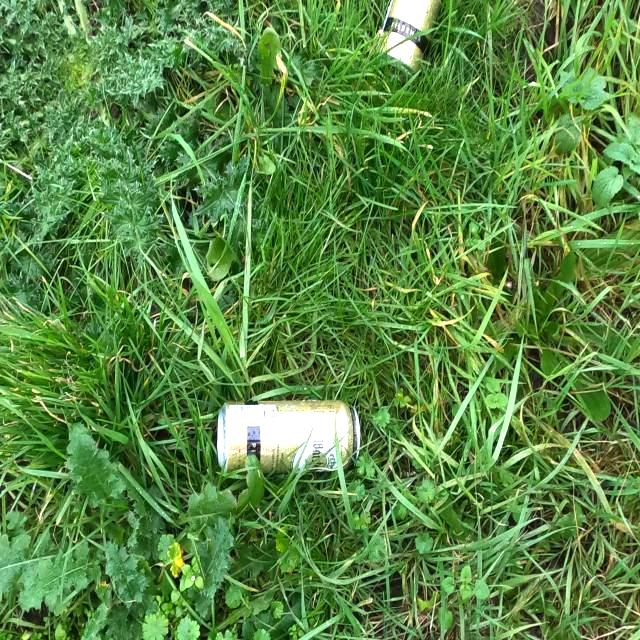Metal: (215, 398, 361, 474), (372, 0, 444, 74)
